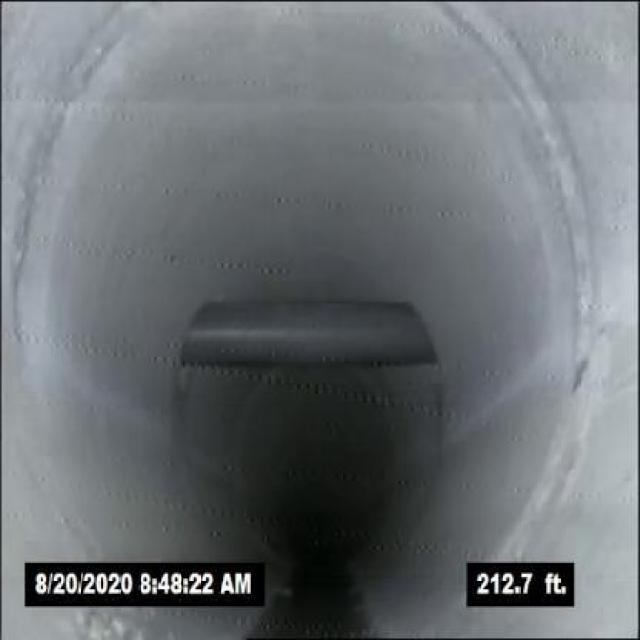Utility intrusion: (174, 292, 440, 372)
